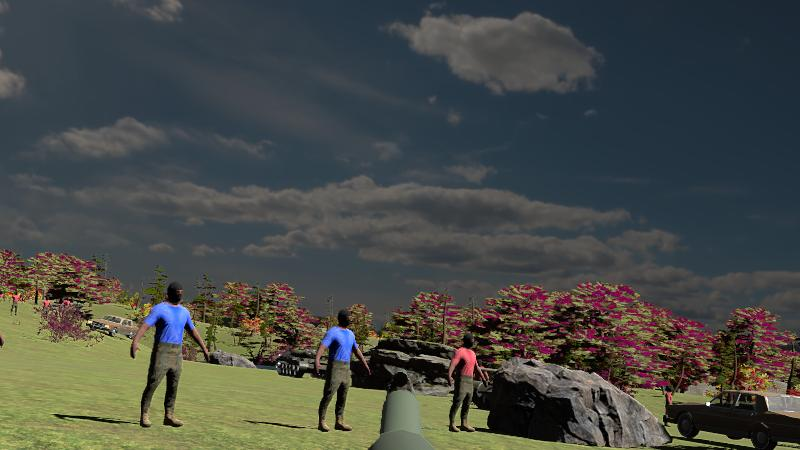Human: (130, 281, 209, 429), (315, 308, 371, 433), (448, 333, 486, 432)
car: (664, 388, 800, 449), (86, 315, 145, 340)
